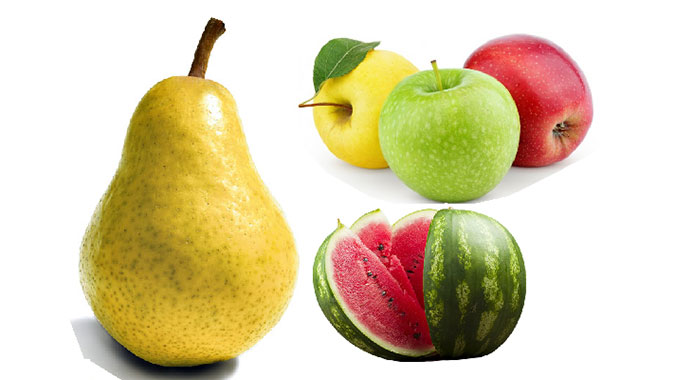elma: (383, 65, 522, 202)
